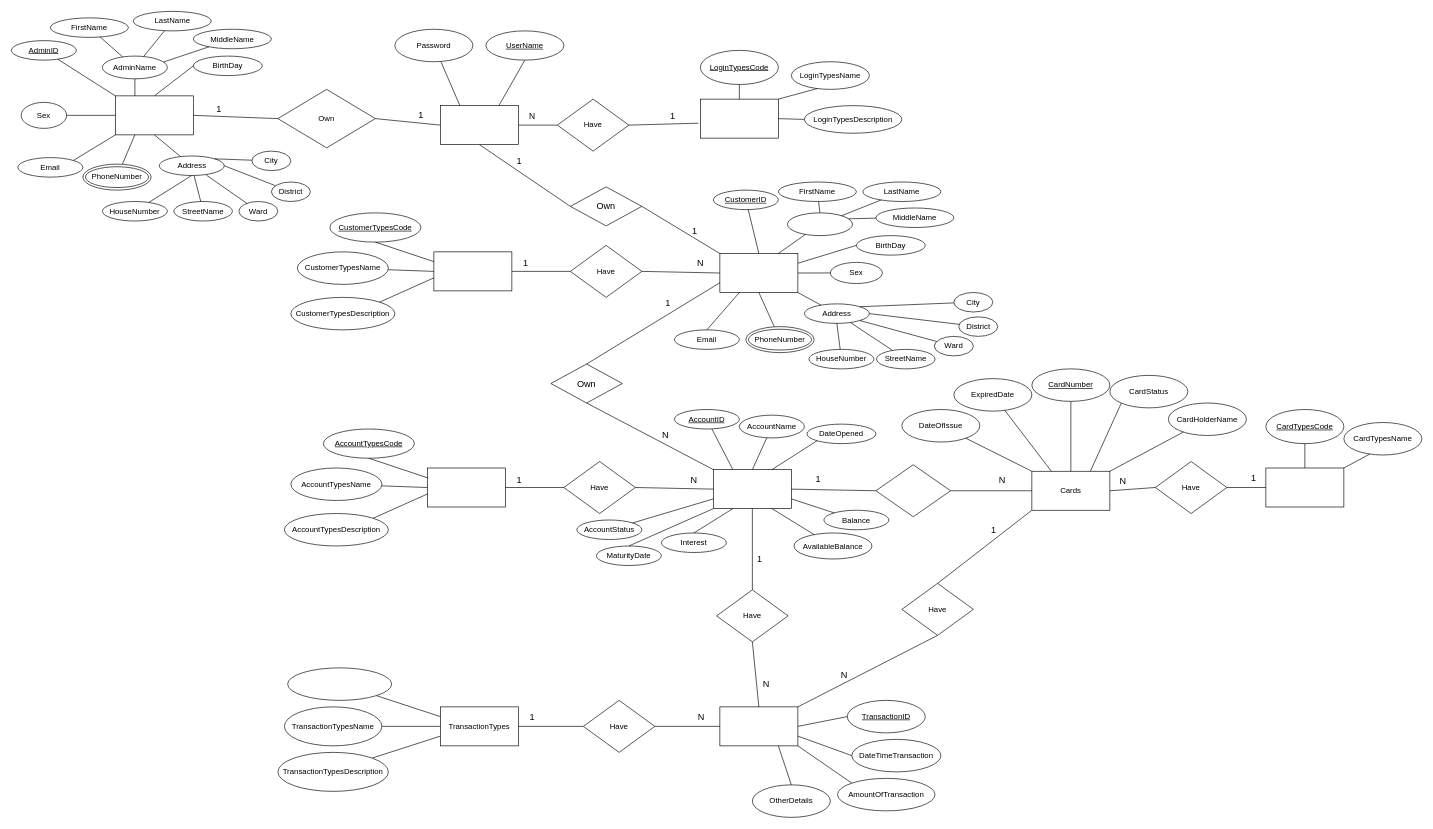
This 1433x829 diagram has some shape labels left out. Here are the shapes that lost their labels. From the top down, the centre of each, then its label:
pixel 154 115: Admin
pixel 479 125: Login
pixel 739 118: LoginTypes
pixel 819 224: CustomerName
pixel 472 271: CustomerTypes
pixel 758 272: Customers
pixel 466 487: AccountTypes
pixel 752 489: Accounts
pixel 913 490: Contain
pixel 1304 487: CardTypes
pixel 339 683: TransactionTypes Code
pixel 758 726: Transactions
